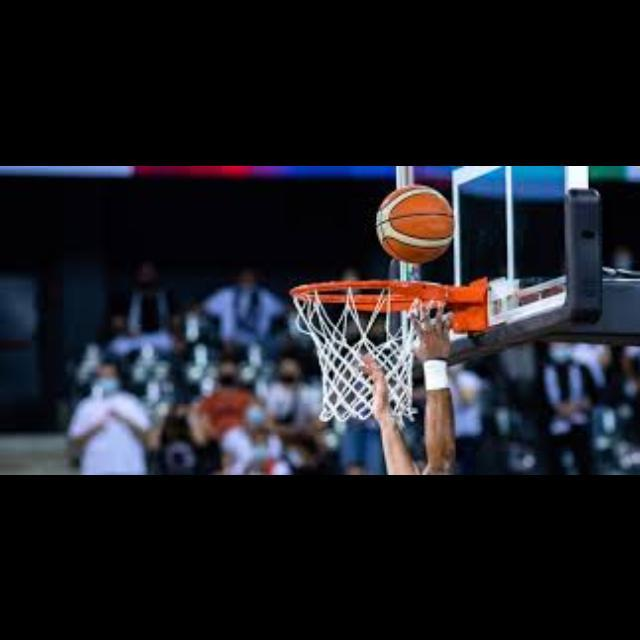basketball: (378, 186, 452, 262)
rim: (292, 278, 424, 416)
